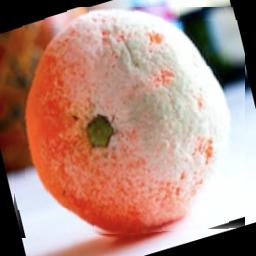Orange Rotten: (11, 7, 246, 238)
